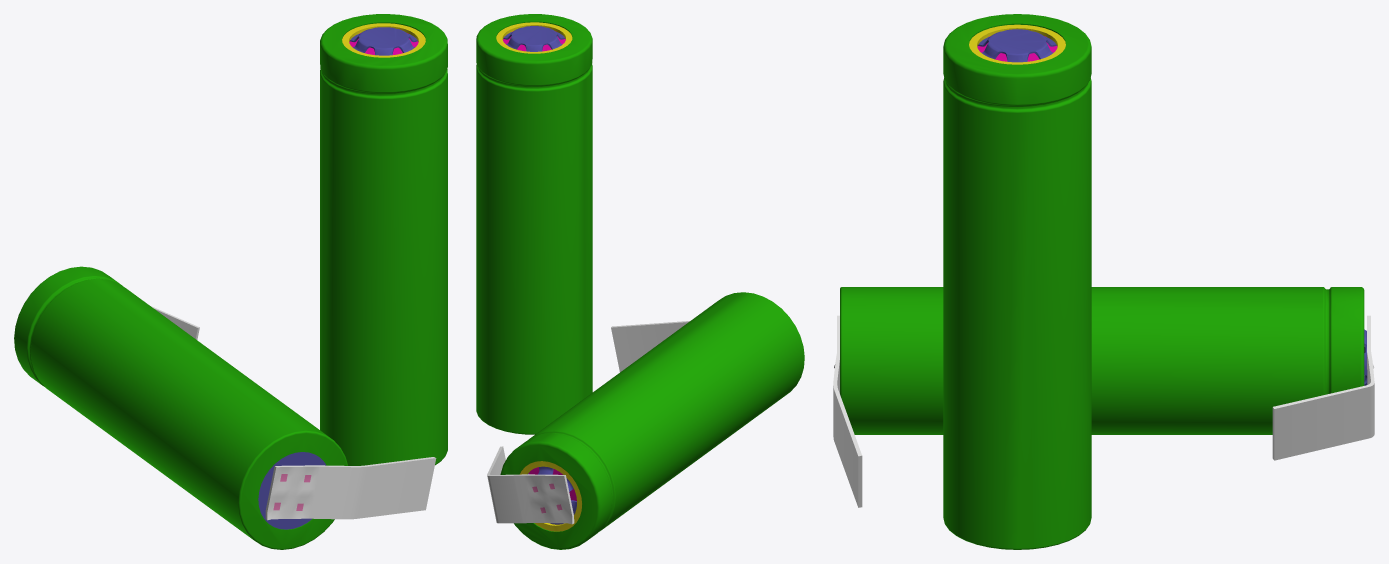
The model's file is Battery.fbx.
3 renders of one model, left to right at view 1: azimuth 30°, elevation 25°; view 2: azimuth 150°, elevation 25°; view 3: azimuth 270°, elevation 25°, orthographic. The views are drawn at different scales.
Visible parts, largest first — view 1: Battery_Shield_v20:_Component2:1:_Placa:1:_Body2.001, Battery_Shield_v20:_Component2:1:_Placa:1:_Body2.003, Cube; view 2: Battery_Shield_v20:_Component2:1:_Placa:1:_Body2.001, Battery_Shield_v20:_Component2:1:_Placa:1:_Body2.003, Cube; view 3: Battery_Shield_v20:_Component2:1:_Placa:1:_Body2.001, Battery_Shield_v20:_Component2:1:_Placa:1:_Body2.003, Cube.
Boxes of the visible parts, x1,y1,x2,y2 form: Battery_Shield_v20:_Component2:1:_Placa:1:_Body2.001: [320, 14, 447, 465]; Battery_Shield_v20:_Component2:1:_Placa:1:_Body2.003: [14, 266, 347, 549]; Cube: [151, 306, 436, 520]; Battery_Shield_v20:_Component2:1:_Placa:1:_Body2.001: [476, 14, 592, 434]; Battery_Shield_v20:_Component2:1:_Placa:1:_Body2.003: [500, 292, 804, 549]; Cube: [487, 321, 689, 524]; Battery_Shield_v20:_Component2:1:_Placa:1:_Body2.001: [943, 14, 1091, 549]; Battery_Shield_v20:_Component2:1:_Placa:1:_Body2.003: [840, 287, 1367, 434]; Cube: [833, 315, 1374, 507].
Size of the model in its own units: 4.57 by 6.55 by 6.67.
